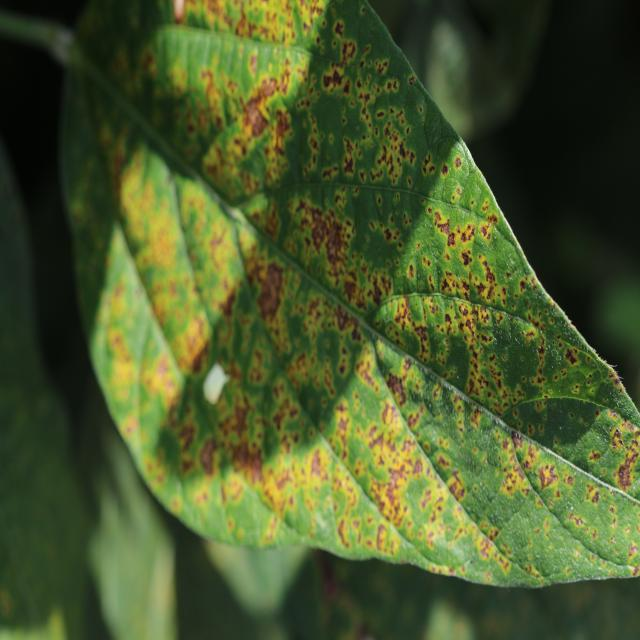Bacterial_Blight: (202, 134, 257, 202), (138, 189, 184, 270), (386, 297, 434, 360), (141, 343, 181, 408), (301, 203, 342, 261), (465, 336, 497, 399), (107, 322, 139, 379), (441, 336, 473, 393), (257, 261, 285, 320), (499, 451, 533, 497), (223, 400, 253, 452), (155, 427, 184, 477), (230, 432, 262, 476), (322, 58, 347, 111), (200, 66, 224, 111), (334, 302, 362, 336), (385, 463, 412, 496), (609, 424, 637, 455), (244, 99, 268, 135), (273, 107, 292, 152), (287, 314, 308, 354), (333, 407, 352, 450), (372, 143, 395, 177), (365, 453, 390, 484), (385, 371, 407, 405), (198, 437, 217, 475), (262, 425, 282, 461), (594, 380, 621, 406), (441, 270, 464, 298), (537, 463, 559, 491), (191, 342, 209, 374), (447, 472, 466, 502), (219, 287, 236, 319), (381, 400, 400, 428), (617, 460, 634, 488), (481, 259, 497, 288), (368, 428, 386, 453), (566, 509, 586, 531), (342, 278, 358, 305), (434, 209, 451, 234), (310, 449, 325, 477), (397, 138, 414, 162), (371, 278, 386, 305), (459, 223, 477, 244), (584, 484, 600, 506), (337, 518, 349, 547), (260, 78, 277, 98), (376, 524, 388, 552), (341, 40, 356, 61), (478, 539, 492, 560), (563, 347, 578, 366), (511, 430, 524, 448), (588, 449, 602, 464), (343, 156, 354, 174), (486, 212, 499, 227), (460, 250, 472, 266), (612, 426, 623, 441), (627, 543, 638, 557), (537, 342, 546, 359), (480, 225, 490, 239), (447, 233, 456, 247), (422, 256, 431, 269), (519, 279, 527, 293), (408, 264, 415, 279), (441, 163, 449, 176), (454, 157, 462, 168), (408, 75, 415, 85)
Soybean: (3, 0, 640, 593)
